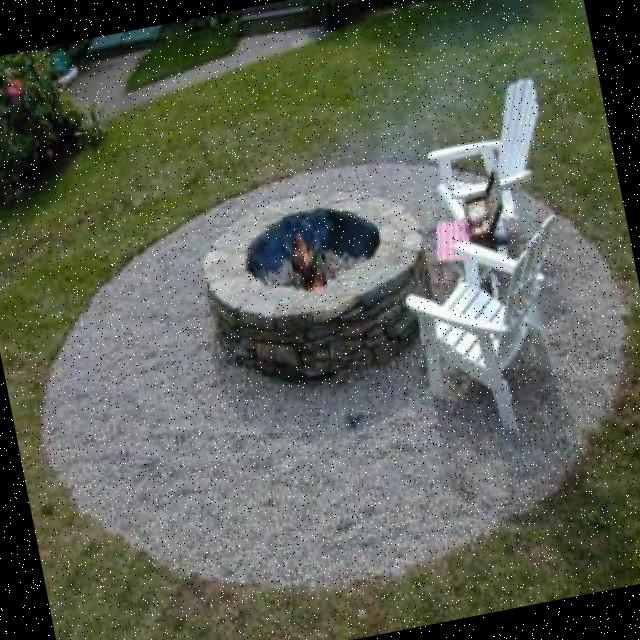fire: (282, 212, 330, 302)
